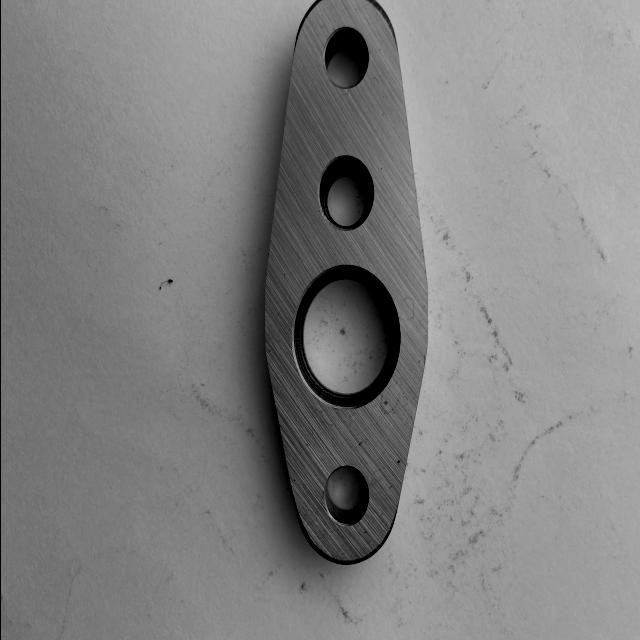chap: (378, 164, 382, 172)
lines: (388, 385, 406, 411), (377, 396, 393, 424), (402, 294, 415, 322), (386, 448, 403, 468)
